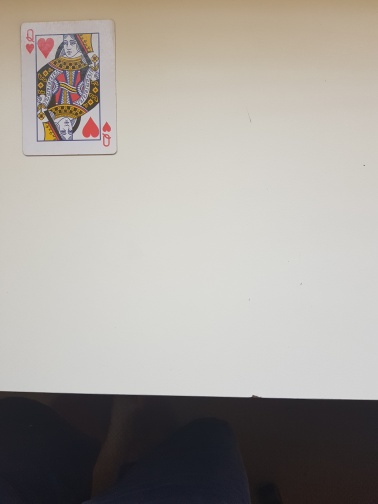queen: (19, 18, 119, 156)
